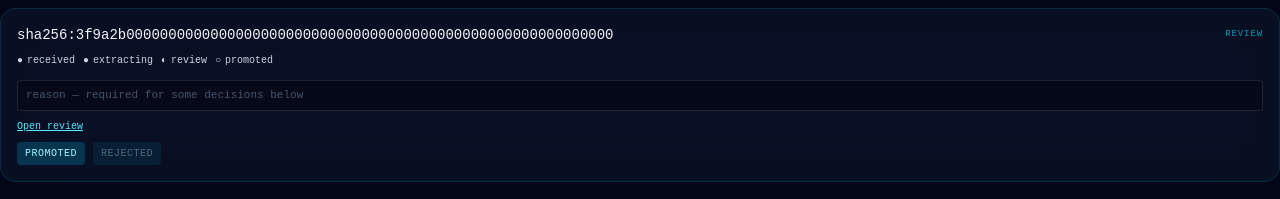
IngestStatusCard — keyed by row.ingest_id › the rejected button is disabled without a comment, and enables once one is typed
Expected: the button "rejected" is disabled, [93,142,161,164]
In the field with placeholder "reason — required for some decisions below": (640,95) [17,80,1263,110], type "wrong document"
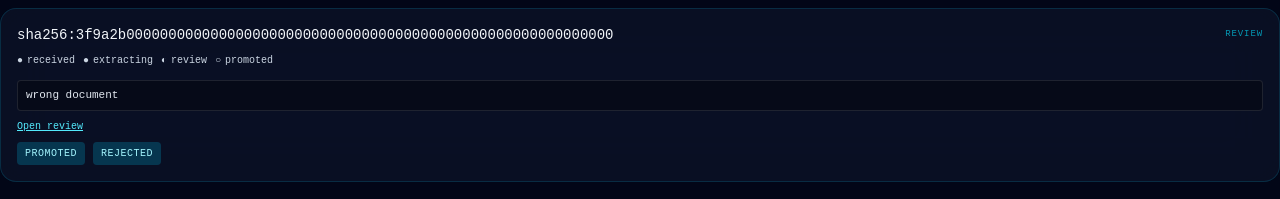
Expected: the button "promoted" is enabled, [17,142,85,164]
Expected: the button "rejected" is enabled, [93,142,161,164]
